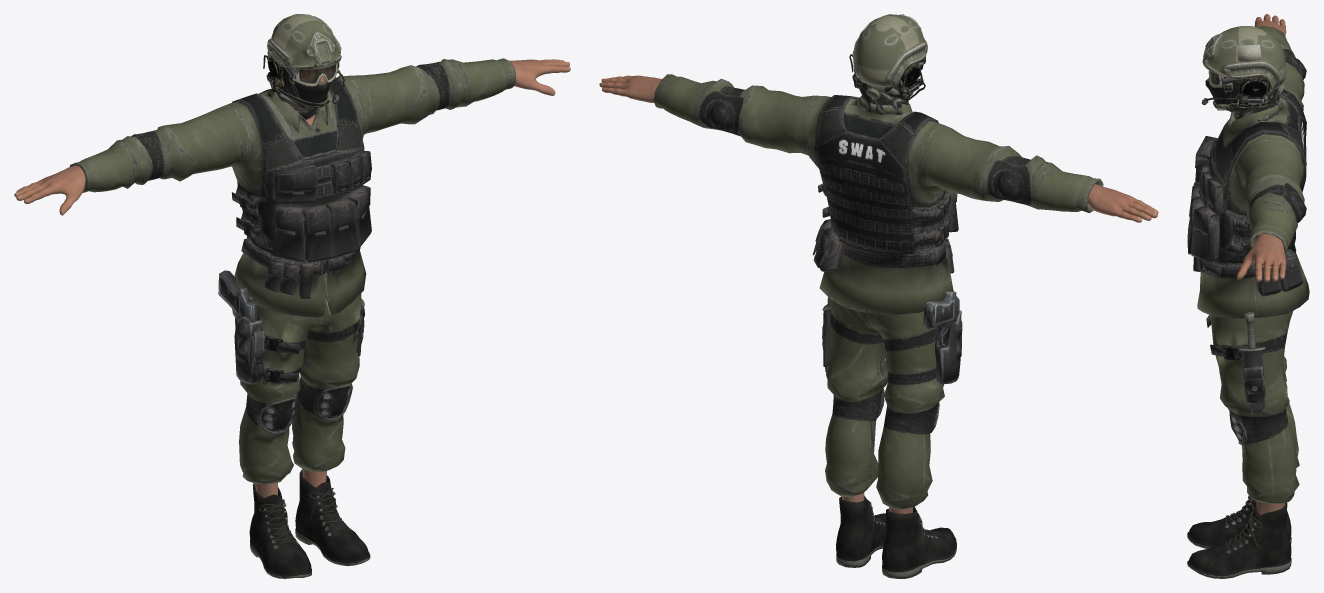
File: tactical_response_officer.glb
The picture shows the model from 3 angles, left to right: view 1: azimuth 30°, elevation 25°; view 2: azimuth 150°, elevation 25°; view 3: azimuth 270°, elevation 25°; orthographic projection. The views are drawn at different scales.
Visible parts, largest first — view 1: Object_8, Object_2, Object_7, Object_5, Object_10, Object_6, Object_3; view 2: Object_8, Object_2, Object_7, Object_5, Object_10, Object_6; view 3: Object_8, Object_2, Object_7, Object_5, Object_10, Object_6, Object_3.
Boxes of the visible parts, box(x1,y1,x2,y2) form: Object_8: box(69, 58, 515, 317); Object_2: box(218, 270, 364, 484); Object_7: box(249, 470, 370, 578); Object_5: box(263, 14, 344, 107); Object_10: box(14, 59, 570, 497); Object_6: box(268, 56, 331, 119); Object_3: box(284, 62, 339, 86); Object_8: box(653, 74, 1103, 314); Object_2: box(822, 290, 962, 509); Object_7: box(836, 496, 956, 578); Object_5: box(849, 14, 927, 100); Object_10: box(599, 75, 1158, 513); Object_6: box(855, 63, 916, 114); Object_8: box(1187, 26, 1309, 318); Object_2: box(1206, 311, 1299, 503); Object_7: box(1187, 496, 1291, 578); Object_5: box(1201, 26, 1286, 110); Object_10: box(1215, 14, 1286, 514); Object_6: box(1205, 77, 1281, 122); Object_3: box(1208, 70, 1242, 87).
Bounding box in the file's own units: 1.97 × 1.82 × 0.3836.
8 materials, 8 textured.
